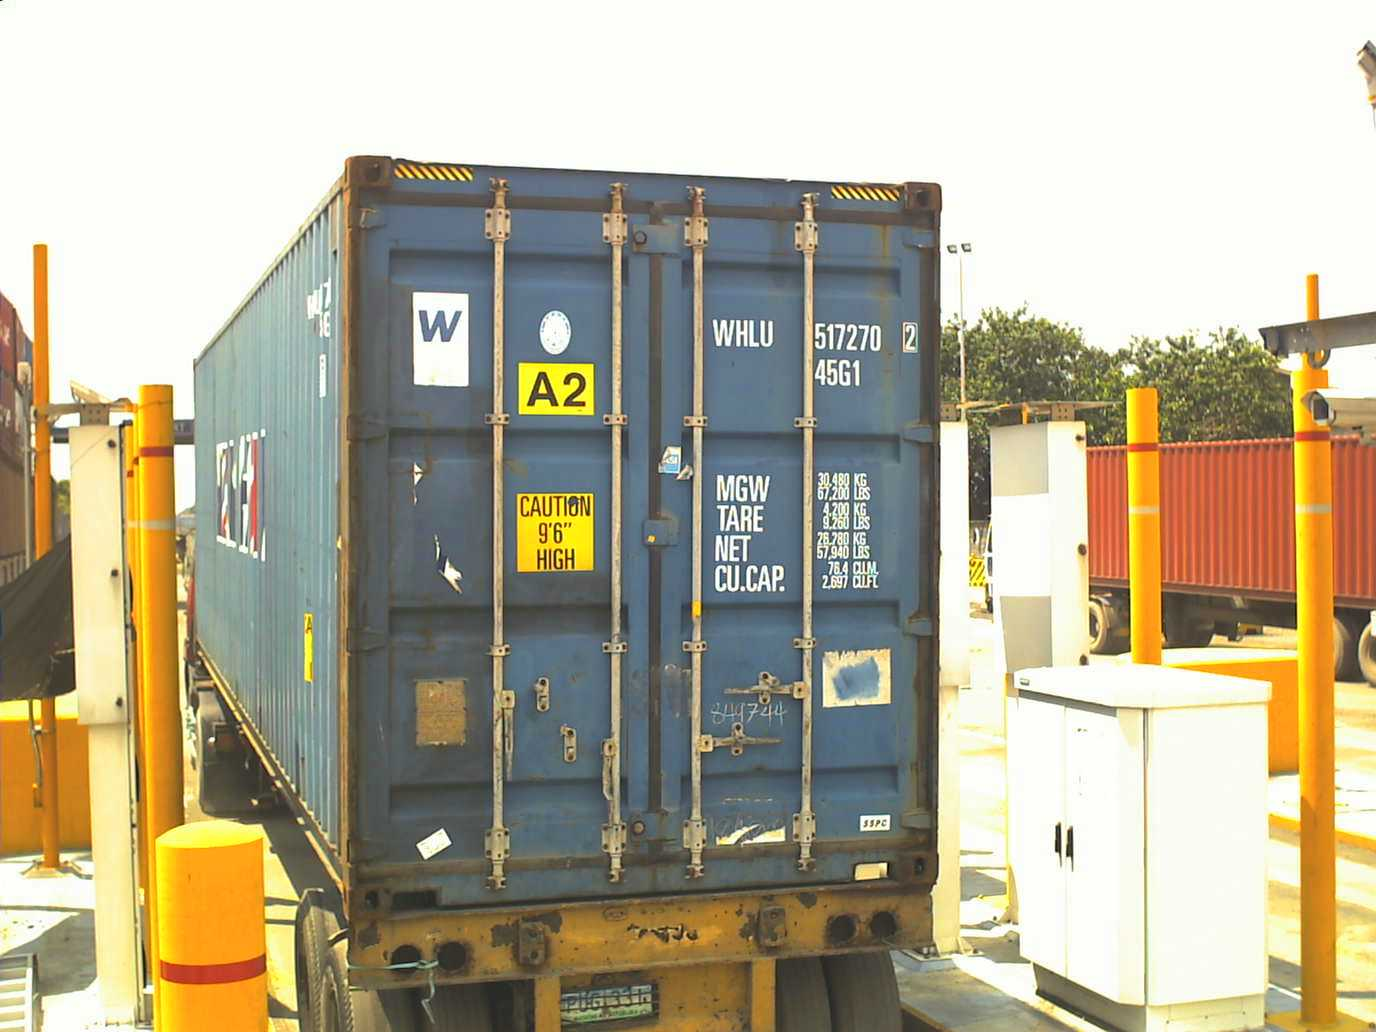container_door: (335, 151, 951, 896)
